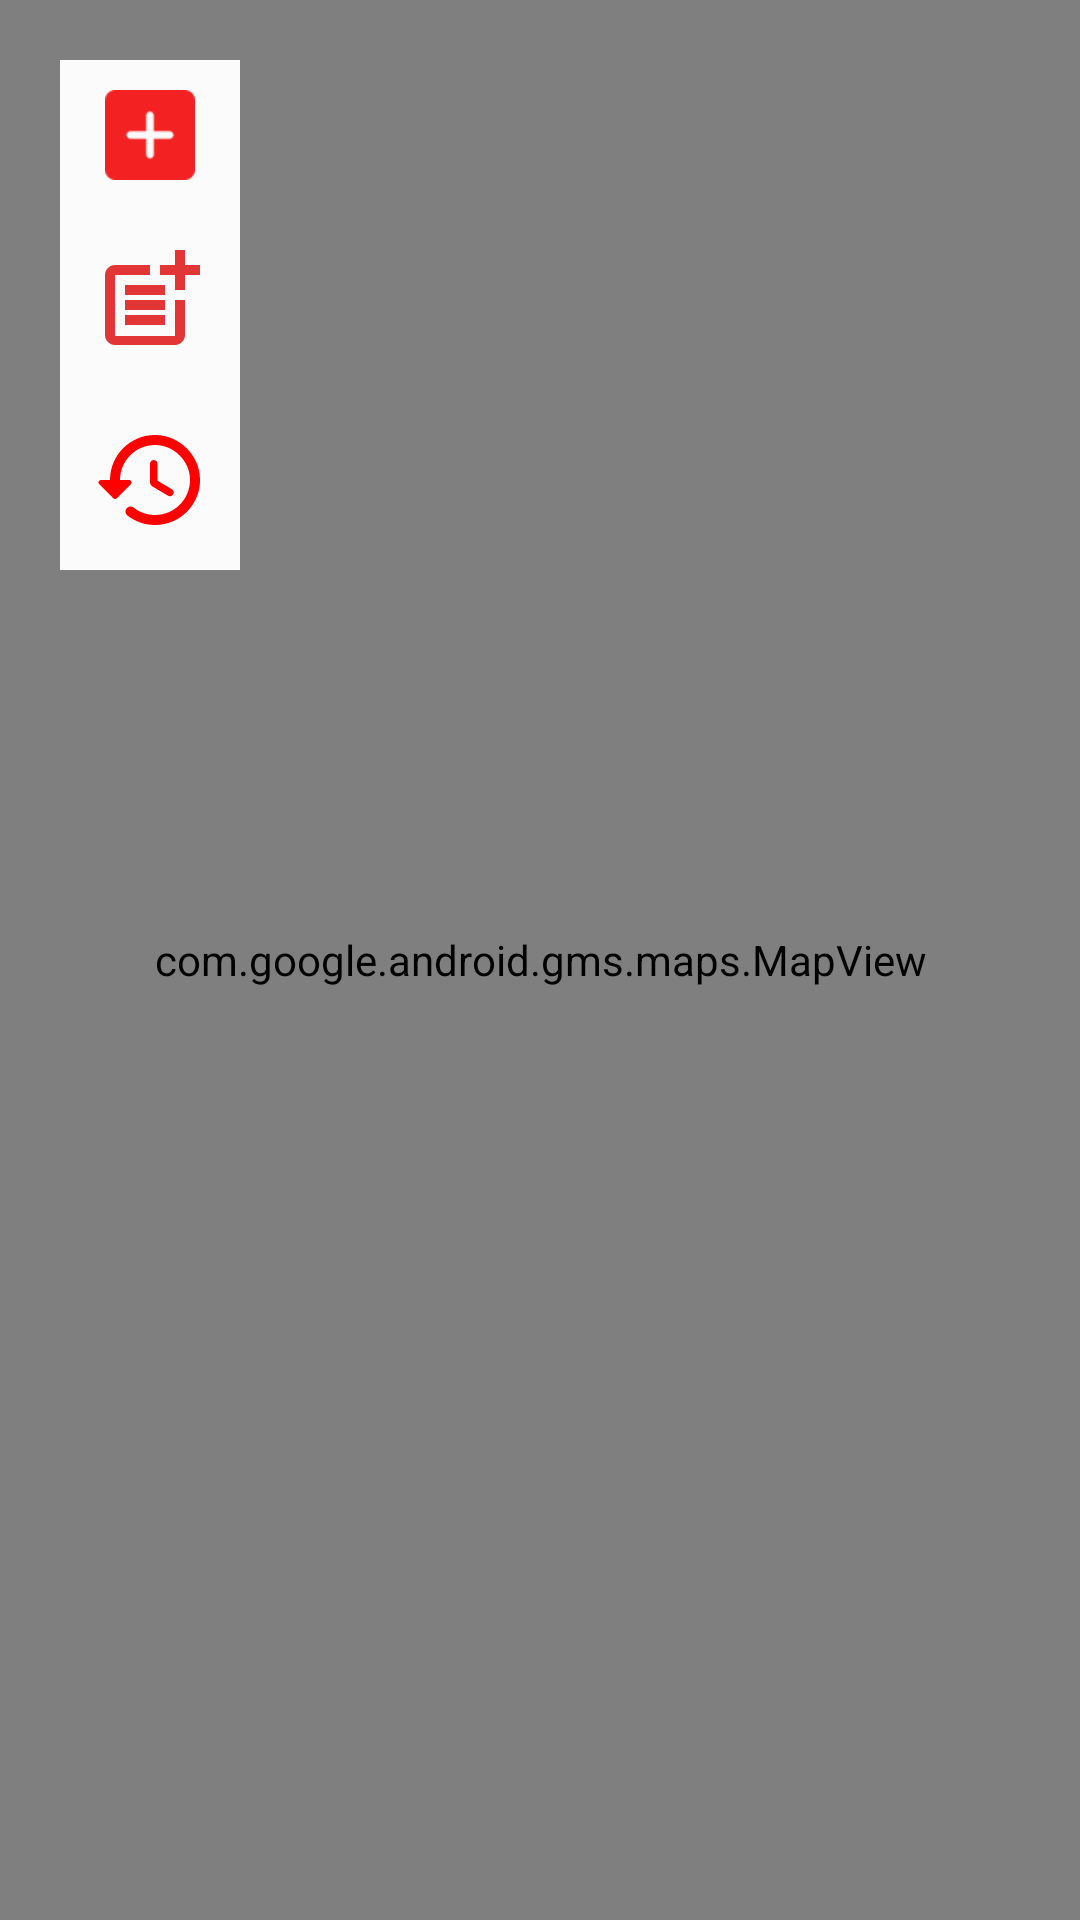

Locate icon controls on the screen. Image size 1080x1920, boxes as [left=x1, top=y1, right=x2, bottom=y2].
addrapport: [left=105, top=90, right=195, bottom=180]
history: [left=98, top=435, right=200, bottom=525]
post add: [left=105, top=250, right=200, bottom=345]
